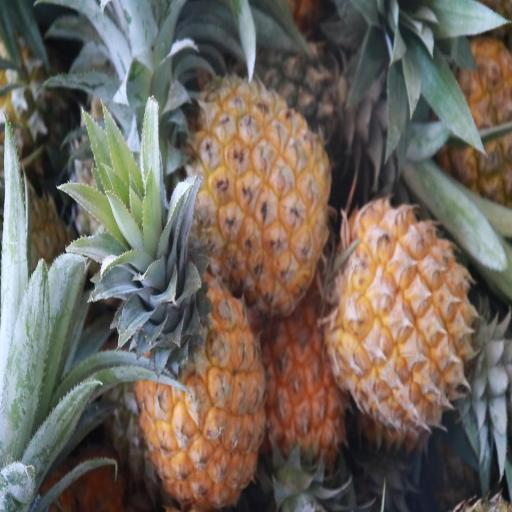Pineapple - v8 v1: (137, 206, 266, 502), (190, 70, 333, 308), (334, 193, 477, 428), (266, 294, 350, 505)
